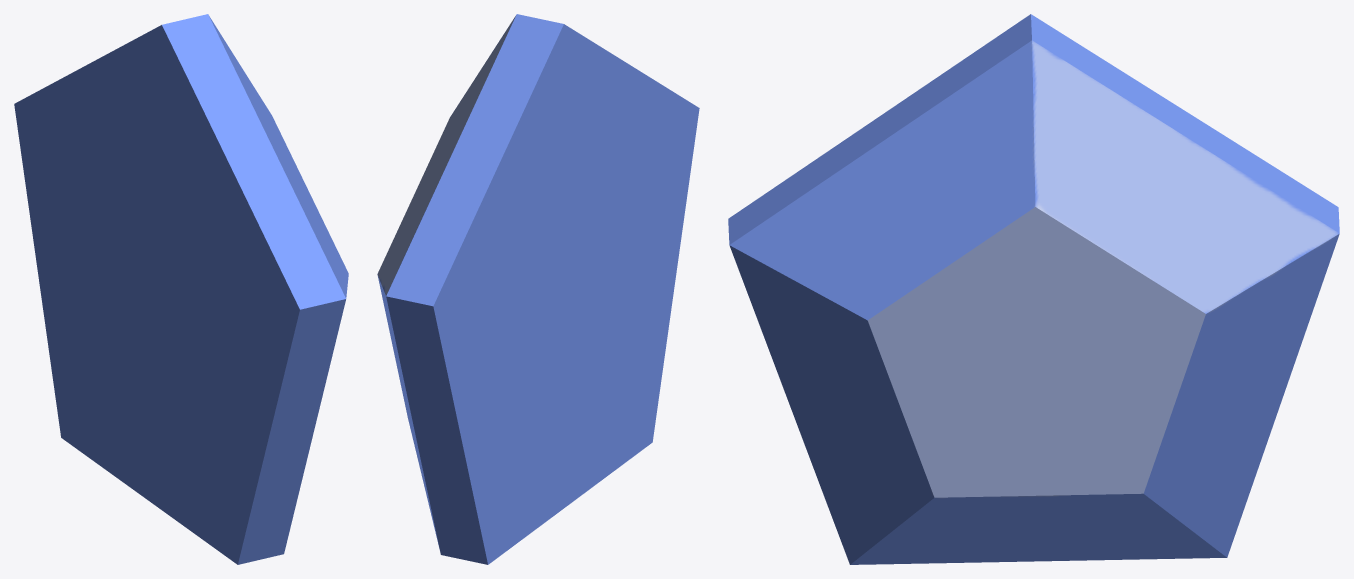
File: B Jewel.fbx
The picture shows the model from 3 angles, left to right: view 1: azimuth 30°, elevation 25°; view 2: azimuth 150°, elevation 25°; view 3: azimuth 270°, elevation 25°; orthographic projection. The views are drawn at different scales.
Visible parts, largest first — view 1: B Jewel; view 2: B Jewel; view 3: B Jewel.
Boxes of the visible parts, x1,y1,x2,y2 form: B Jewel: (14, 14, 348, 564); B Jewel: (377, 14, 699, 564); B Jewel: (728, 14, 1339, 564).
Size of the model in its own units: 9.25 by 33.8 by 35.4.
